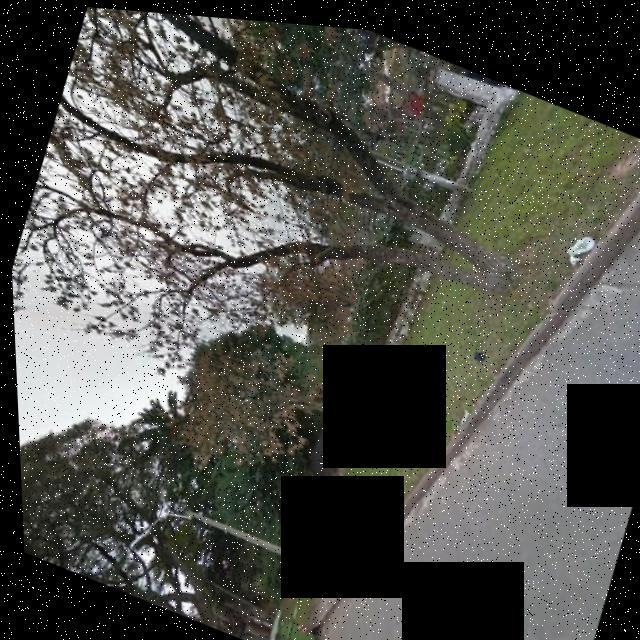bin: (249, 590, 336, 640)
